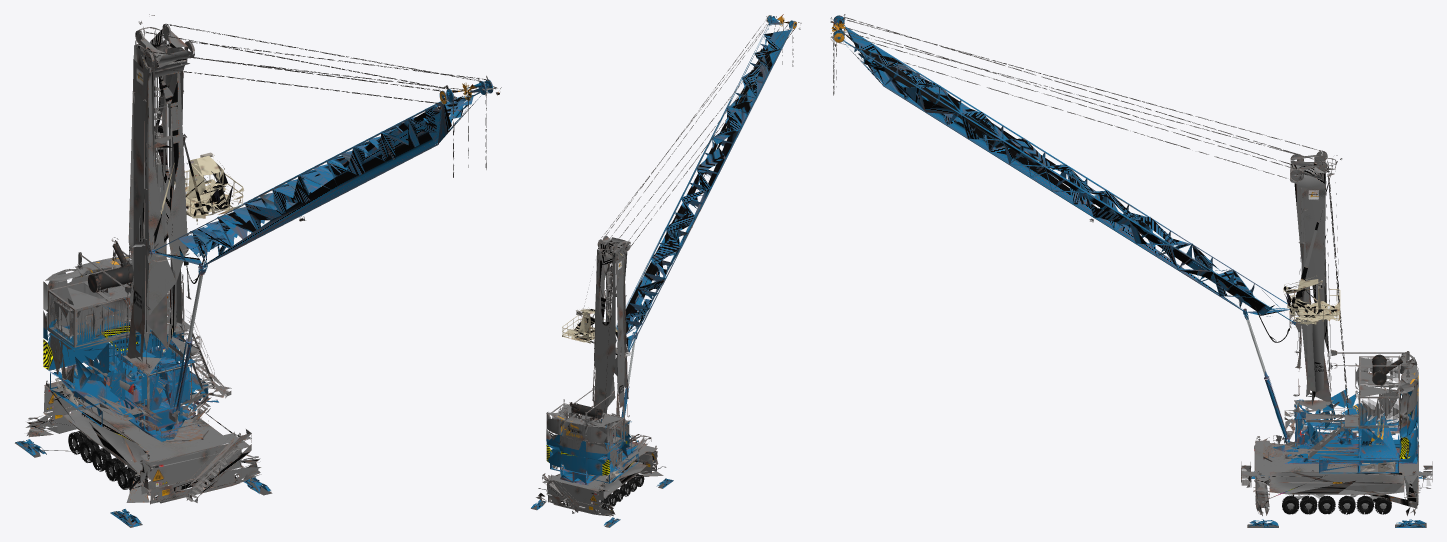
Rendered from harbor_crane.glb.
3 views of the same model, side by side, from view 1: azimuth 30°, elevation 25°; view 2: azimuth 150°, elevation 25°; view 3: azimuth 270°, elevation 25° (orthographic). The views are drawn at different scales.
Visible parts, largest first — view 1: Object_6, Object_4, Object_7, Object_0, Object_8, Object_2, Object_3; view 2: Object_4, Object_6, Object_7, Object_0, Object_8, Object_2; view 3: Object_4, Object_7, Object_6, Object_0, Object_8, Object_2.
Part boxes in pixels (x1,y1,x2,y2): Object_6: (122,14,243,375); Object_4: (125,24,501,416); Object_7: (43,237,231,422); Object_0: (15,350,272,527); Object_8: (49,346,218,443); Object_2: (72,433,143,491); Object_3: (68,431,99,462); Object_4: (593,14,801,456); Object_6: (562,236,631,425); Object_7: (546,386,651,475); Object_0: (531,443,673,527); Object_8: (550,434,639,484); Object_2: (601,474,644,507); Object_4: (830,14,1350,443); Object_7: (1284,349,1418,460); Object_6: (1283,150,1342,418); Object_0: (1241,436,1432,527); Object_8: (1263,418,1418,473); Object_2: (1282,494,1391,514).
Size of the model in its own units: 6.9 by 28.74 by 32.64.
Materials: 6 (6 with a texture image).
